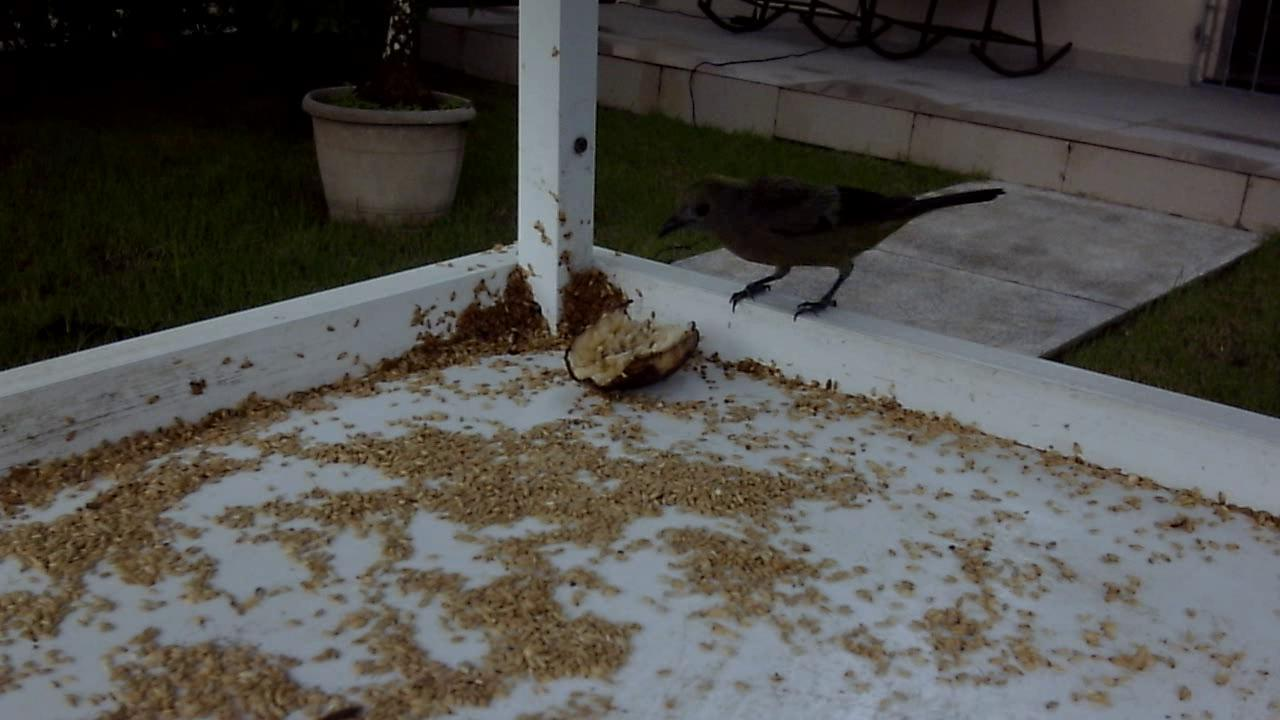sanhaco_do_coqueiro: (647, 141, 1002, 340)
